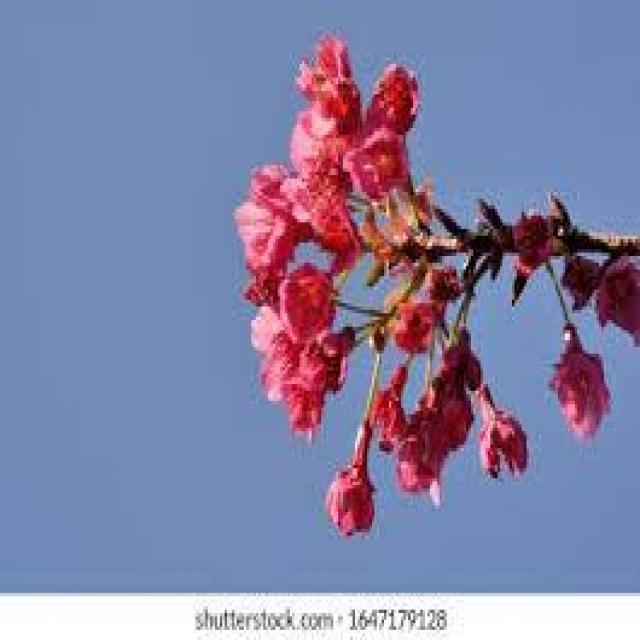organic waste: (260, 310, 352, 431), (455, 376, 542, 480), (404, 316, 449, 498), (236, 153, 298, 278), (321, 408, 377, 546), (300, 155, 362, 266), (544, 324, 606, 434), (298, 41, 366, 138), (361, 46, 429, 136), (355, 133, 420, 221), (381, 266, 430, 361), (280, 251, 331, 342), (309, 314, 355, 388), (373, 357, 409, 451)
